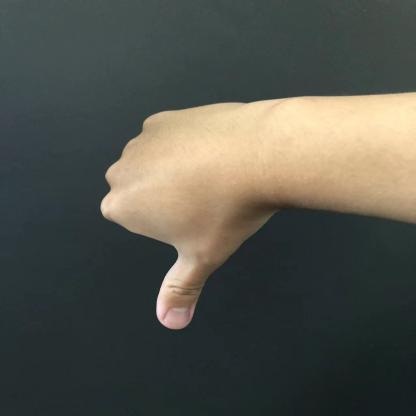Thumbs-Down: (82, 79, 308, 340)
